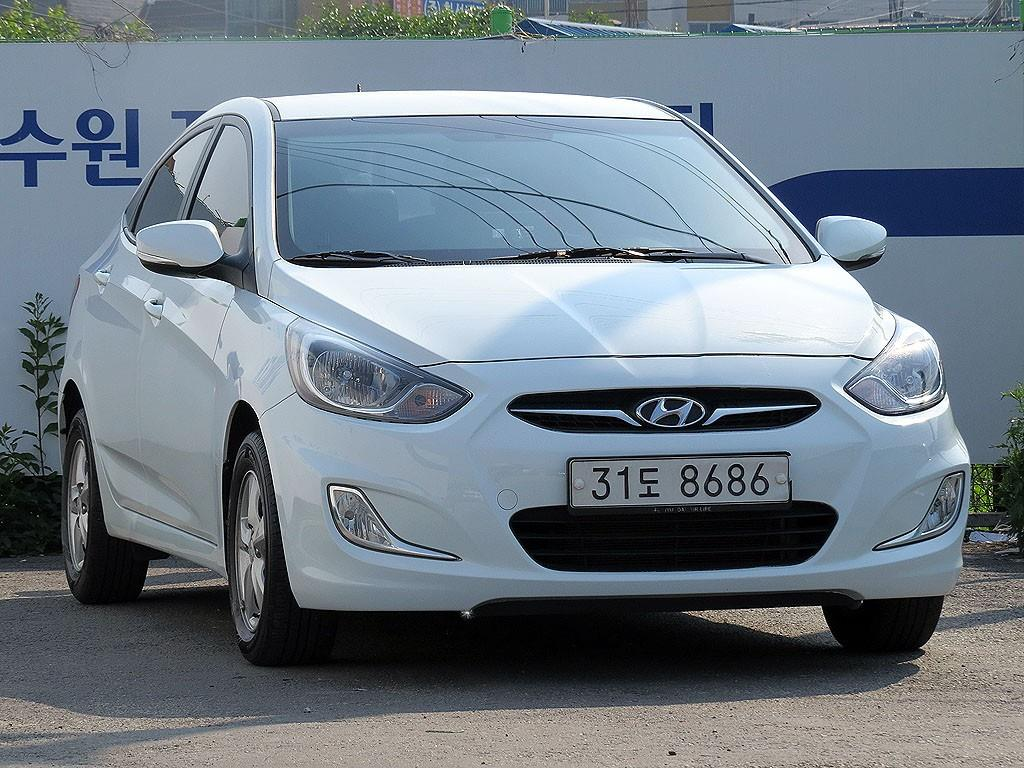plate: (570, 455, 790, 508)
